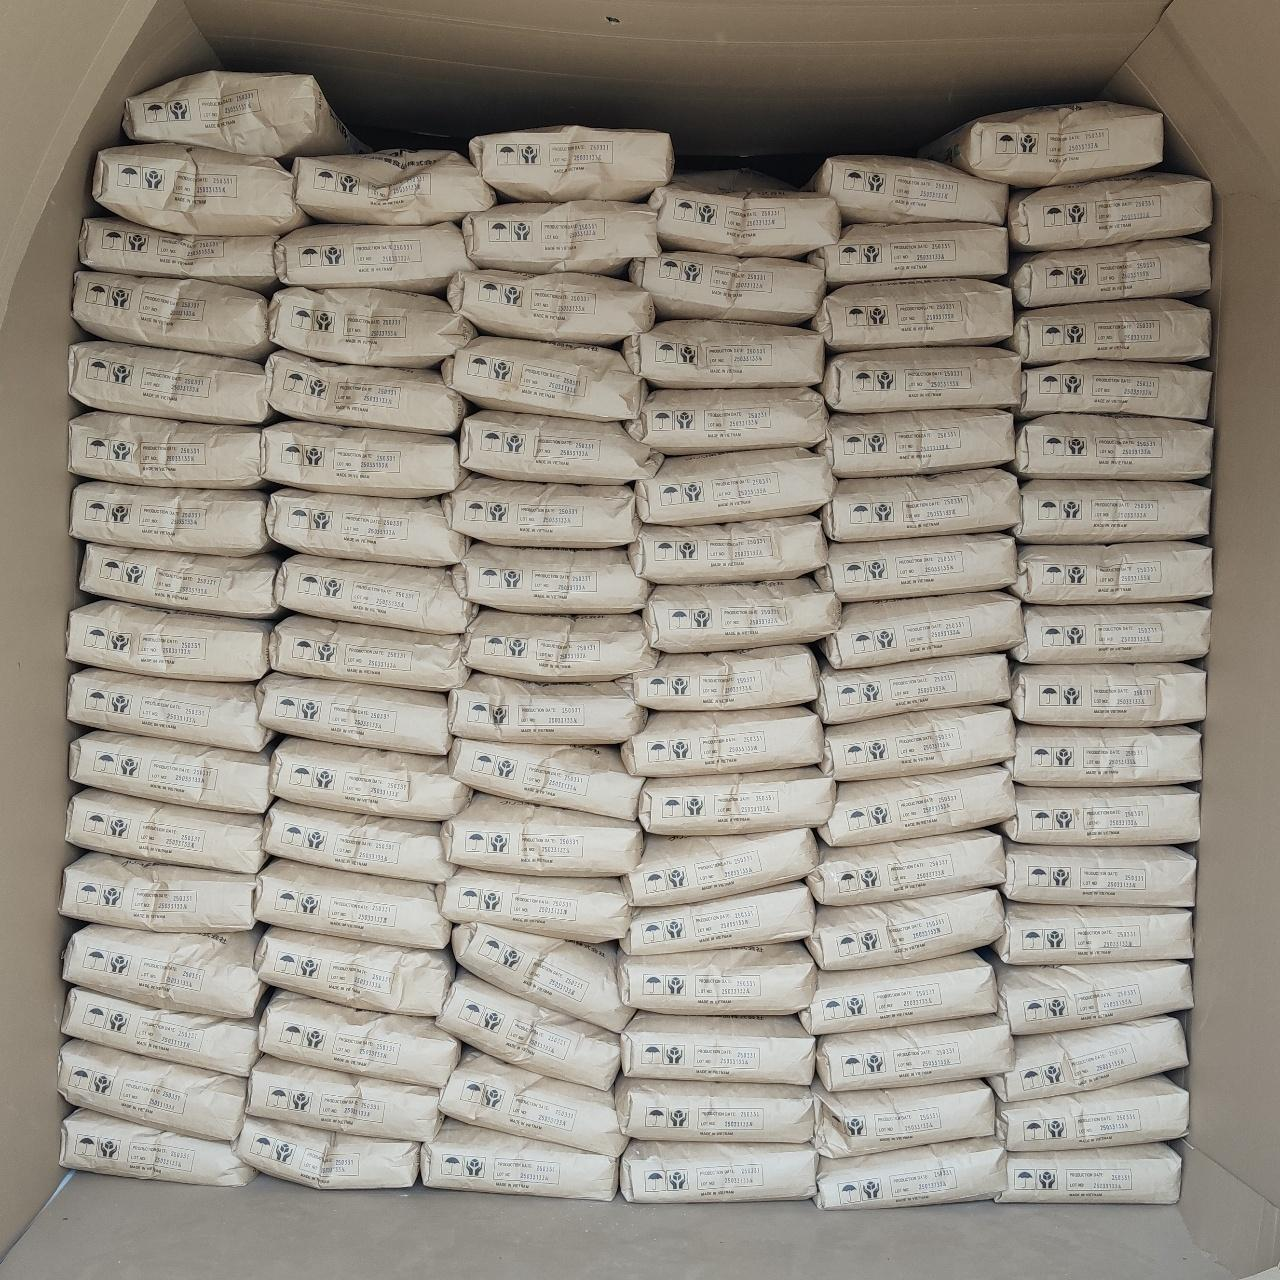sack: (438, 972, 618, 1086), (124, 72, 360, 158), (922, 102, 1162, 184), (452, 923, 632, 1027), (262, 992, 458, 1086), (60, 1040, 244, 1140), (94, 144, 306, 230), (442, 1050, 624, 1150), (66, 926, 262, 1014), (64, 988, 258, 1076), (74, 272, 270, 358), (258, 928, 454, 1014), (256, 860, 446, 948), (444, 338, 644, 420), (248, 1056, 440, 1140), (70, 342, 270, 422), (70, 670, 270, 750), (990, 1018, 1184, 1100), (72, 732, 270, 812), (270, 288, 472, 366), (272, 738, 468, 818), (268, 350, 464, 430), (70, 600, 270, 678), (68, 790, 262, 870), (652, 172, 838, 254), (444, 796, 638, 874), (422, 1120, 616, 1198), (802, 952, 994, 1030), (62, 854, 254, 932), (448, 270, 652, 342), (260, 674, 448, 752), (276, 556, 474, 630), (808, 890, 1000, 966), (1008, 174, 1210, 246), (264, 802, 450, 880), (270, 490, 466, 564), (450, 740, 640, 816), (822, 768, 1012, 844), (272, 616, 466, 690), (264, 422, 462, 494), (636, 450, 834, 522), (294, 150, 492, 222), (70, 412, 262, 486), (468, 128, 670, 198), (80, 218, 276, 290), (460, 412, 660, 482), (814, 280, 1012, 350), (62, 1110, 254, 1182), (82, 544, 278, 614), (618, 944, 814, 1014), (624, 830, 814, 902), (440, 868, 630, 940), (996, 1076, 1186, 1148), (822, 470, 1016, 540), (644, 578, 838, 648), (818, 1016, 1012, 1086), (822, 594, 1020, 662), (72, 482, 270, 550), (630, 252, 822, 322), (822, 708, 1014, 778), (622, 1014, 814, 1084), (276, 224, 472, 292), (810, 832, 1000, 902), (622, 708, 822, 774), (450, 674, 644, 742), (996, 962, 1190, 1030), (624, 884, 812, 954), (236, 1116, 418, 1188), (808, 156, 1006, 222), (446, 476, 638, 544), (464, 202, 656, 270), (814, 1082, 990, 1156), (1010, 240, 1206, 306), (456, 544, 646, 612), (464, 610, 654, 678), (816, 1138, 1006, 1206), (816, 654, 1006, 722), (818, 410, 1012, 476), (630, 516, 824, 582), (816, 534, 1014, 598), (628, 388, 826, 452), (640, 768, 834, 832), (1010, 300, 1210, 362), (624, 322, 822, 384), (822, 348, 1020, 410), (616, 1078, 814, 1140), (1014, 416, 1210, 478), (1016, 480, 1206, 542), (624, 646, 814, 708), (810, 224, 1006, 284), (1010, 664, 1204, 724), (1002, 844, 1194, 904), (1014, 542, 1210, 600), (1002, 786, 1198, 844), (1012, 604, 1206, 662), (996, 904, 1190, 962), (622, 1142, 814, 1198), (1008, 726, 1198, 782), (1018, 362, 1208, 418), (998, 1144, 1180, 1202)
